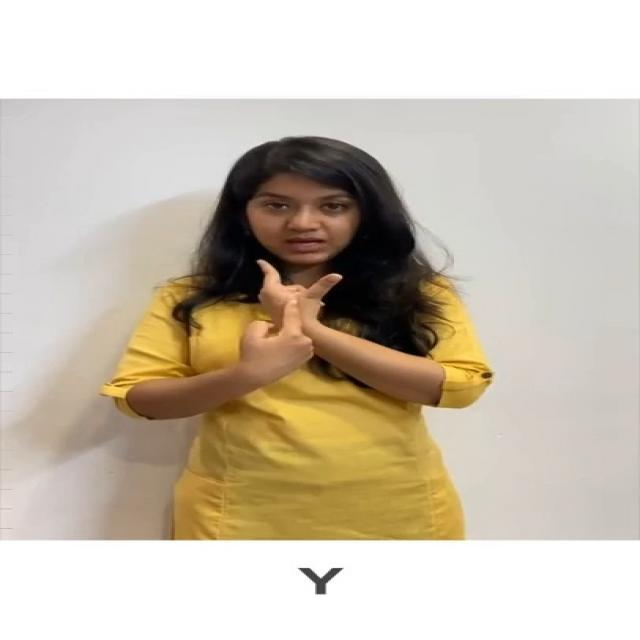Y: (224, 256, 356, 381)
